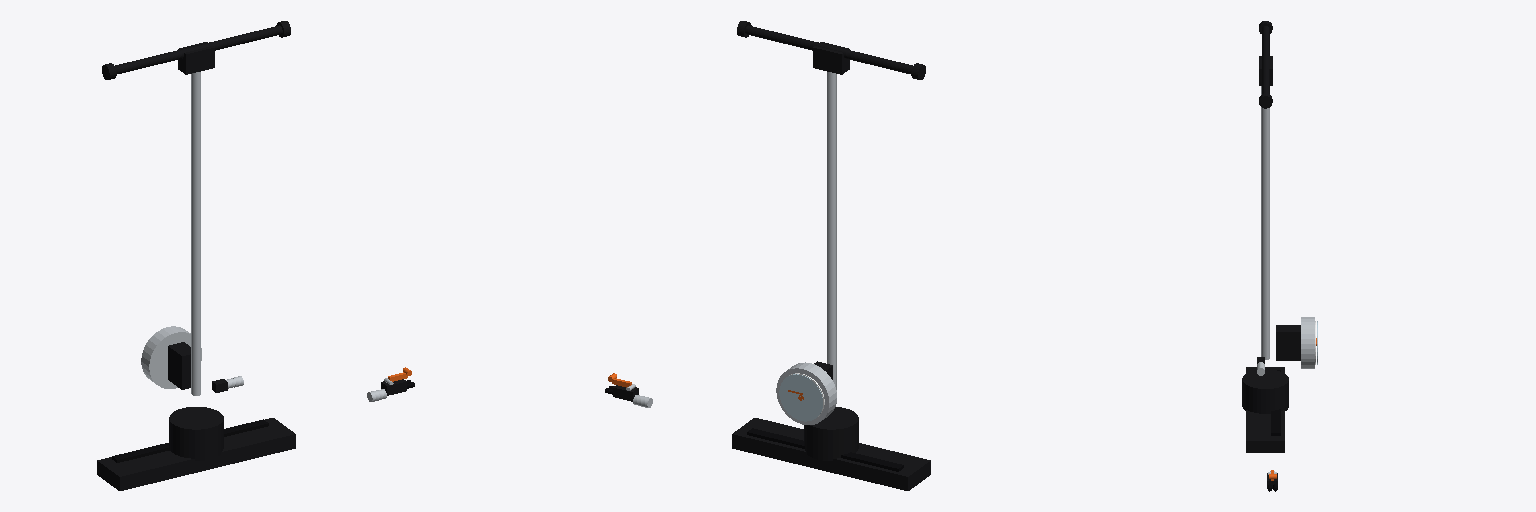
The robot description file, URDF, robot "dual_head_floor_pump":
<robot name="dual_head_floor_pump">
  <material name="powder_black">
    <color rgba="0.12 0.12 0.13 1" />
    </material>
  <material name="pump_blue">
    <color rgba="0.16 0.34 0.62 1" />
    </material>
  <material name="steel">
    <color rgba="0.76 0.78 0.8 1" />
    </material>
  <material name="rubber">
    <color rgba="0.08 0.08 0.09 1" />
    </material>
  <material name="light_face">
    <color rgba="0.94 0.95 0.95 1" />
    </material>
  <material name="warning_orange">
    <color rgba="0.93 0.44 0.15 1" />
    </material>
  <material name="glass">
    <color rgba="0.76 0.84 0.88 0.4" />
    </material>
  <link name="base">
    <visual name="foot_bar">
      <origin xyz="0 0 0.012" rpy="0 0 0" />
      <geometry>
        <box size="0.305 0.068 0.024" />
        </geometry>
      <material name="powder_black">
        <color rgba="0.12 0.12 0.13 1" />
        </material>
      </visual>
    <visual name="left_tread">
      <origin xyz="-0.072 0.018 0.0265" rpy="0 0 0" />
      <geometry>
        <box size="0.118 0.016 0.005" />
        </geometry>
      <material name="rubber">
        <color rgba="0.08 0.08 0.09 1" />
        </material>
      </visual>
    <visual name="right_tread">
      <origin xyz="0.072 0.018 0.0265" rpy="0 0 0" />
      <geometry>
        <box size="0.118 0.016 0.005" />
        </geometry>
      <material name="rubber">
        <color rgba="0.08 0.08 0.09 1" />
        </material>
      </visual>
    <visual name="base_collar">
      <origin xyz="0 0 0.046" rpy="0 0 0" />
      <geometry>
        <cylinder radius="0.041" length="0.052" />
        </geometry>
      <material name="powder_black">
        <color rgba="0.12 0.12 0.13 1" />
        </material>
      </visual>
    <visual name="barrel_shell">
      <origin xyz="0 0 0.02" rpy="0 0 0" />
      <geometry>
        <mesh filename="assets/meshes/barrel_shell.obj" />
        </geometry>
      <material name="pump_blue">
        <color rgba="0.16 0.34 0.62 1" />
        </material>
      </visual>
    <visual name="gauge_bracket">
      <origin xyz="0 0.041 0.142" rpy="0 0 0" />
      <geometry>
        <box size="0.028 0.045 0.056" />
        </geometry>
      <material name="powder_black">
        <color rgba="0.12 0.12 0.13 1" />
        </material>
      </visual>
    <visual name="gauge_bezel">
      <origin xyz="0 0.074 0.142" rpy="1.5708 0 0" />
      <geometry>
        <cylinder radius="0.046" length="0.024" />
        </geometry>
      <material name="steel">
        <color rgba="0.76 0.78 0.8 1" />
        </material>
      </visual>
    <visual name="gauge_face">
      <origin xyz="0 0.086 0.142" rpy="1.5708 0 0" />
      <geometry>
        <cylinder radius="0.038" length="0.004" />
        </geometry>
      <material name="light_face">
        <color rgba="0.94 0.95 0.95 1" />
        </material>
      </visual>
    <visual name="needle_hub">
      <origin xyz="0 0.088 0.142" rpy="1.5708 0 0" />
      <geometry>
        <cylinder radius="0.005" length="0.006" />
        </geometry>
      <material name="warning_orange">
        <color rgba="0.93 0.44 0.15 1" />
        </material>
      </visual>
    <visual name="needle">
      <origin xyz="0.009 0.0895 0.149" rpy="0 0 0" />
      <geometry>
        <box size="0.026 0.003 0.003" />
        </geometry>
      <material name="warning_orange">
        <color rgba="0.93 0.44 0.15 1" />
        </material>
      </visual>
    <visual name="gauge_lens">
      <origin xyz="0 0.0905 0.142" rpy="1.5708 0 0" />
      <geometry>
        <cylinder radius="0.038" length="0.001" />
        </geometry>
      <material name="glass">
        <color rgba="0.76 0.84 0.88 0.4" />
        </material>
      </visual>
    <visual name="hose_outlet">
      <origin xyz="0.045 -0.008 0.12" rpy="0 1.5708 0" />
      <geometry>
        <cylinder radius="0.007" length="0.03" />
        </geometry>
      <material name="steel">
        <color rgba="0.76 0.78 0.8 1" />
        </material>
      </visual>
    <visual name="hose_mount">
      <origin xyz="0.036 -0.008 0.12" rpy="0 0 0" />
      <geometry>
        <box size="0.02 0.014 0.014" />
        </geometry>
      <material name="powder_black">
        <color rgba="0.12 0.12 0.13 1" />
        </material>
      </visual>
    <collision name="foot_bar">
      <origin xyz="0 0 0.012" rpy="0 0 0" />
      <geometry>
        <box size="0.305 0.068 0.024" />
        </geometry>
      </collision>
    <collision name="left_tread">
      <origin xyz="-0.072 0.018 0.0265" rpy="0 0 0" />
      <geometry>
        <box size="0.118 0.016 0.005" />
        </geometry>
      </collision>
    <collision name="right_tread">
      <origin xyz="0.072 0.018 0.0265" rpy="0 0 0" />
      <geometry>
        <box size="0.118 0.016 0.005" />
        </geometry>
      </collision>
    <collision name="base_collar">
      <origin xyz="0 0 0.046" rpy="0 0 0" />
      <geometry>
        <cylinder radius="0.041" length="0.052" />
        </geometry>
      </collision>
    <collision name="barrel_shell">
      <origin xyz="0 0 0.02" rpy="0 0 0" />
      <geometry>
        <mesh filename="assets/meshes/barrel_shell.obj" />
        </geometry>
      </collision>
    <collision name="gauge_bracket">
      <origin xyz="0 0.041 0.142" rpy="0 0 0" />
      <geometry>
        <box size="0.028 0.045 0.056" />
        </geometry>
      </collision>
    <collision name="gauge_bezel">
      <origin xyz="0 0.074 0.142" rpy="1.5708 0 0" />
      <geometry>
        <cylinder radius="0.046" length="0.024" />
        </geometry>
      </collision>
    <collision name="gauge_face">
      <origin xyz="0 0.086 0.142" rpy="1.5708 0 0" />
      <geometry>
        <cylinder radius="0.038" length="0.004" />
        </geometry>
      </collision>
    <collision name="needle_hub">
      <origin xyz="0 0.088 0.142" rpy="1.5708 0 0" />
      <geometry>
        <cylinder radius="0.005" length="0.006" />
        </geometry>
      </collision>
    <collision name="needle">
      <origin xyz="0.009 0.0895 0.149" rpy="0 0 0" />
      <geometry>
        <box size="0.026 0.003 0.003" />
        </geometry>
      </collision>
    <collision name="gauge_lens">
      <origin xyz="0 0.0905 0.142" rpy="1.5708 0 0" />
      <geometry>
        <cylinder radius="0.038" length="0.001" />
        </geometry>
      </collision>
    <collision name="hose_outlet">
      <origin xyz="0.045 -0.008 0.12" rpy="0 1.5708 0" />
      <geometry>
        <cylinder radius="0.007" length="0.03" />
        </geometry>
      </collision>
    <collision name="hose_mount">
      <origin xyz="0.036 -0.008 0.12" rpy="0 0 0" />
      <geometry>
        <box size="0.02 0.014 0.014" />
        </geometry>
      </collision>
    </link>
  <link name="handle">
    <visual name="rod">
      <origin xyz="0 0 -0.19" rpy="0 0 0" />
      <geometry>
        <cylinder radius="0.0075" length="0.54" />
        </geometry>
      <material name="steel">
        <color rgba="0.76 0.78 0.8 1" />
        </material>
      </visual>
    <visual name="yoke">
      <origin xyz="0 0 0.095" rpy="0 0 0" />
      <geometry>
        <box size="0.05 0.024 0.034" />
        </geometry>
      <material name="powder_black">
        <color rgba="0.12 0.12 0.13 1" />
        </material>
      </visual>
    <visual name="crossbar">
      <origin xyz="0 0 0.108" rpy="0 1.5708 0" />
      <geometry>
        <cylinder radius="0.007" length="0.29" />
        </geometry>
      <material name="powder_black">
        <color rgba="0.12 0.12 0.13 1" />
        </material>
      </visual>
    <visual name="left_endcap">
      <origin xyz="-0.151 0 0.108" rpy="0 1.5708 0" />
      <geometry>
        <cylinder radius="0.012" length="0.012" />
        </geometry>
      <material name="powder_black">
        <color rgba="0.12 0.12 0.13 1" />
        </material>
      </visual>
    <visual name="right_endcap">
      <origin xyz="0.151 0 0.108" rpy="0 1.5708 0" />
      <geometry>
        <cylinder radius="0.012" length="0.012" />
        </geometry>
      <material name="powder_black">
        <color rgba="0.12 0.12 0.13 1" />
        </material>
      </visual>
    <collision name="rod">
      <origin xyz="0 0 -0.19" rpy="0 0 0" />
      <geometry>
        <cylinder radius="0.0075" length="0.54" />
        </geometry>
      </collision>
    <collision name="yoke">
      <origin xyz="0 0 0.095" rpy="0 0 0" />
      <geometry>
        <box size="0.05 0.024 0.034" />
        </geometry>
      </collision>
    <collision name="crossbar">
      <origin xyz="0 0 0.108" rpy="0 1.5708 0" />
      <geometry>
        <cylinder radius="0.007" length="0.29" />
        </geometry>
      </collision>
    <collision name="left_endcap">
      <origin xyz="-0.151 0 0.108" rpy="0 1.5708 0" />
      <geometry>
        <cylinder radius="0.012" length="0.012" />
        </geometry>
      </collision>
    <collision name="right_endcap">
      <origin xyz="0.151 0 0.108" rpy="0 1.5708 0" />
      <geometry>
        <cylinder radius="0.012" length="0.012" />
        </geometry>
      </collision>
    </link>
  <link name="grip">
    <visual name="grip_sleeve">
      <origin xyz="0 0 0" rpy="0 1.5708 0" />
      <geometry>
        <mesh filename="assets/meshes/grip_sleeve.obj" />
        </geometry>
      <material name="rubber">
        <color rgba="0.08 0.08 0.09 1" />
        </material>
      </visual>
    <collision name="grip_sleeve">
      <origin xyz="0 0 0" rpy="0 1.5708 0" />
      <geometry>
        <mesh filename="assets/meshes/grip_sleeve.obj" />
        </geometry>
      </collision>
    </link>
  <link name="hose">
    <visual name="hose_tube">
      <geometry>
        <mesh filename="assets/meshes/hose_tube.obj" />
        </geometry>
      <material name="rubber">
        <color rgba="0.08 0.08 0.09 1" />
        </material>
      </visual>
    <visual name="base_ferrule">
      <origin xyz="0.006 0 0" rpy="0 1.5708 0" />
      <geometry>
        <cylinder radius="0.0075" length="0.014" />
        </geometry>
      <material name="steel">
        <color rgba="0.76 0.78 0.8 1" />
        </material>
      </visual>
    <visual name="head_ferrule">
      <origin xyz="0.254 0.02 -0.09" rpy="0 1.5708 0" />
      <geometry>
        <cylinder radius="0.008" length="0.014" />
        </geometry>
      <material name="steel">
        <color rgba="0.76 0.78 0.8 1" />
        </material>
      </visual>
    <collision name="hose_tube">
      <geometry>
        <mesh filename="assets/meshes/hose_tube.obj" />
        </geometry>
      </collision>
    <collision name="base_ferrule">
      <origin xyz="0.006 0 0" rpy="0 1.5708 0" />
      <geometry>
        <cylinder radius="0.0075" length="0.014" />
        </geometry>
      </collision>
    <collision name="head_ferrule">
      <origin xyz="0.254 0.02 -0.09" rpy="0 1.5708 0" />
      <geometry>
        <cylinder radius="0.008" length="0.014" />
        </geometry>
      </collision>
    </link>
  <link name="valve_head">
    <visual name="hose_socket">
      <origin xyz="0.006 0 0" rpy="0 1.5708 0" />
      <geometry>
        <cylinder radius="0.0075" length="0.012" />
        </geometry>
      <material name="steel">
        <color rgba="0.76 0.78 0.8 1" />
        </material>
      </visual>
    <visual name="body">
      <origin xyz="0.029 0 0.008" rpy="0 0 0" />
      <geometry>
        <box size="0.034 0.018 0.016" />
        </geometry>
      <material name="powder_black">
        <color rgba="0.12 0.12 0.13 1" />
        </material>
      </visual>
    <visual name="port_0">
      <origin xyz="0.053 -0.005 0.006" rpy="0 1.5708 0" />
      <geometry>
        <cylinder radius="0.0038" length="0.014" />
        </geometry>
      <material name="rubber">
        <color rgba="0.08 0.08 0.09 1" />
        </material>
      </visual>
    <visual name="port_1">
      <origin xyz="0.053 0.005 0.006" rpy="0 1.5708 0" />
      <geometry>
        <cylinder radius="0.0038" length="0.014" />
        </geometry>
      <material name="rubber">
        <color rgba="0.08 0.08 0.09 1" />
        </material>
      </visual>
    <visual name="pivot_boss_0">
      <origin xyz="0.02 -0.006 0.018" rpy="1.5708 0 0" />
      <geometry>
        <cylinder radius="0.0035" length="0.004" />
        </geometry>
      <material name="steel">
        <color rgba="0.76 0.78 0.8 1" />
        </material>
      </visual>
    <visual name="pivot_boss_1">
      <origin xyz="0.02 0.006 0.018" rpy="1.5708 0 0" />
      <geometry>
        <cylinder radius="0.0035" length="0.004" />
        </geometry>
      <material name="steel">
        <color rgba="0.76 0.78 0.8 1" />
        </material>
      </visual>
    <collision name="hose_socket">
      <origin xyz="0.006 0 0" rpy="0 1.5708 0" />
      <geometry>
        <cylinder radius="0.0075" length="0.012" />
        </geometry>
      </collision>
    <collision name="body">
      <origin xyz="0.029 0 0.008" rpy="0 0 0" />
      <geometry>
        <box size="0.034 0.018 0.016" />
        </geometry>
      </collision>
    <collision name="port_0">
      <origin xyz="0.053 -0.005 0.006" rpy="0 1.5708 0" />
      <geometry>
        <cylinder radius="0.0038" length="0.014" />
        </geometry>
      </collision>
    <collision name="port_1">
      <origin xyz="0.053 0.005 0.006" rpy="0 1.5708 0" />
      <geometry>
        <cylinder radius="0.0038" length="0.014" />
        </geometry>
      </collision>
    <collision name="pivot_boss_0">
      <origin xyz="0.02 -0.006 0.018" rpy="1.5708 0 0" />
      <geometry>
        <cylinder radius="0.0035" length="0.004" />
        </geometry>
      </collision>
    <collision name="pivot_boss_1">
      <origin xyz="0.02 0.006 0.018" rpy="1.5708 0 0" />
      <geometry>
        <cylinder radius="0.0035" length="0.004" />
        </geometry>
      </collision>
    </link>
  <link name="clamp_lever">
    <visual name="pivot_barrel">
      <origin xyz="0 0 0" rpy="1.5708 0 0" />
      <geometry>
        <cylinder radius="0.0033" length="0.008" />
        </geometry>
      <material name="steel">
        <color rgba="0.76 0.78 0.8 1" />
        </material>
      </visual>
    <visual name="lever_arm">
      <origin xyz="0.016 0 0.004" rpy="0 0 0" />
      <geometry>
        <box size="0.032 0.006 0.008" />
        </geometry>
      <material name="warning_orange">
        <color rgba="0.93 0.44 0.15 1" />
        </material>
      </visual>
    <visual name="lever_tip">
      <origin xyz="0.032 0 0.009" rpy="1.5708 0 0" />
      <geometry>
        <cylinder radius="0.0045" length="0.014" />
        </geometry>
      <material name="warning_orange">
        <color rgba="0.93 0.44 0.15 1" />
        </material>
      </visual>
    <collision name="pivot_barrel">
      <origin xyz="0 0 0" rpy="1.5708 0 0" />
      <geometry>
        <cylinder radius="0.0033" length="0.008" />
        </geometry>
      </collision>
    <collision name="lever_arm">
      <origin xyz="0.016 0 0.004" rpy="0 0 0" />
      <geometry>
        <box size="0.032 0.006 0.008" />
        </geometry>
      </collision>
    <collision name="lever_tip">
      <origin xyz="0.032 0 0.009" rpy="1.5708 0 0" />
      <geometry>
        <cylinder radius="0.0045" length="0.014" />
        </geometry>
      </collision>
    </link>
  <joint name="handle_slide" type="prismatic">
    <origin xyz="0 0 0.572" rpy="0 0 0" />
    <parent link="base" />
    <child link="handle" />
    <axis xyz="0 0 1" />
    <limit effort="220" velocity="1" lower="0" upper="0.26" />
    </joint>
  <joint name="handle_to_grip" type="continuous">
    <origin xyz="0.082 0 0.108" rpy="0 0 0" />
    <parent link="handle" />
    <child link="grip" />
    <axis xyz="1 0 0" />
    <limit effort="6" velocity="8" />
    </joint>
  <joint name="base_to_hose" type="fixed">
    <origin xyz="0.06 -0.008 0.12" rpy="0 0 0" />
    <parent link="base" />
    <child link="hose" />
    </joint>
  <joint name="hose_to_head" type="fixed">
    <origin xyz="0.26 0.02 -0.09" rpy="0 0 0" />
    <parent link="hose" />
    <child link="valve_head" />
    </joint>
  <joint name="head_to_lever" type="revolute">
    <origin xyz="0.02 0 0.018" rpy="0 0 0" />
    <parent link="valve_head" />
    <child link="clamp_lever" />
    <axis xyz="0 -1 0" />
    <limit effort="3" velocity="4" lower="0" upper="1.1" />
    </joint>
  </robot>

--- Facts derived from the render (not from the file) ---
The picture shows the robot from 3 angles, left to right: view 1: azimuth 30°, elevation 25°; view 2: azimuth 150°, elevation 25°; view 3: azimuth 270°, elevation 25°; orthographic projection.
Robot: dual_head_floor_pump — 6 links, 5 joints (1 revolute, 1 continuous, 1 prismatic, 2 fixed); root link base; default pose: all joints at 0.
Links seen in each view (by area): view 1: base, handle; view 2: base, handle; view 3: base, handle.
Boxes of the visible links, left/top/right/bottom form: base: left=97, top=326, right=295, bottom=490; handle: left=102, top=21, right=290, bottom=395; base: left=732, top=361, right=930, bottom=490; handle: left=737, top=21, right=925, bottom=389; base: left=1242, top=317, right=1317, bottom=452; handle: left=1259, top=21, right=1272, bottom=359.
Bounding box of the posed robot: 0.537 × 0.132 × 0.692 m (x, y, z).
Meshes: 3 distinct files referenced, 0 mesh visuals loaded (none loaded); not drawn: 3 (reference not matched to a file when rendering).
